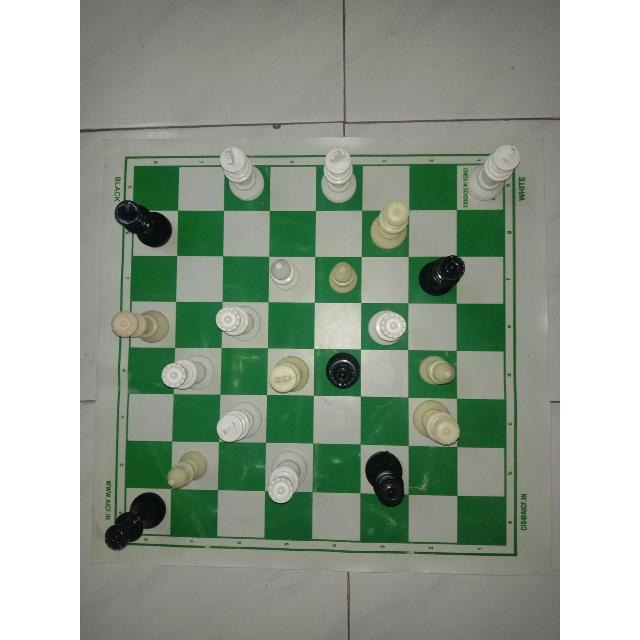black-king: (111, 193, 172, 254)
black-queen: (104, 491, 170, 554), (414, 246, 470, 298), (363, 452, 409, 512), (322, 347, 364, 399)
white-bishop: (164, 447, 210, 497), (411, 352, 456, 402), (261, 255, 305, 295), (319, 254, 361, 294)
white-king: (464, 139, 528, 203), (214, 142, 263, 208), (258, 351, 314, 403), (317, 140, 357, 210), (215, 402, 263, 448)
white-queen: (263, 444, 315, 511), (106, 305, 175, 347), (211, 298, 267, 346), (162, 353, 217, 399), (411, 400, 461, 448), (362, 302, 410, 351), (368, 199, 411, 253)
